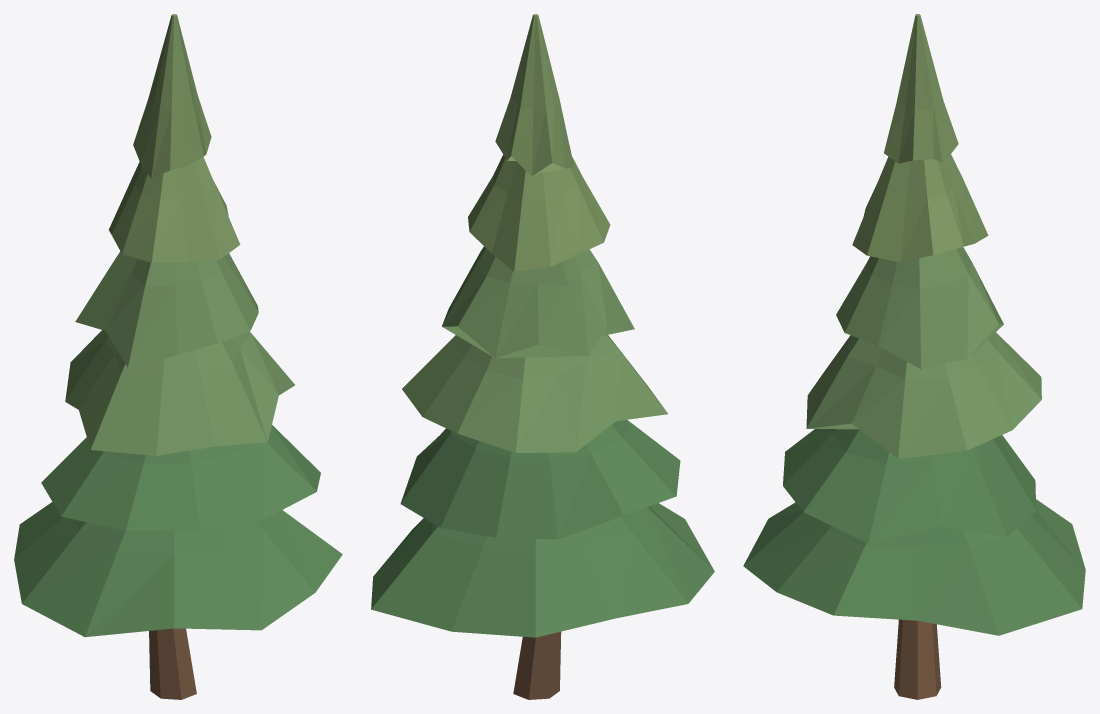
The model's file is Pine_Small.fbx.
3 views of the same model, side by side, from view 1: azimuth 30°, elevation 25°; view 2: azimuth 150°, elevation 25°; view 3: azimuth 270°, elevation 25° (orthographic).
Visible parts, largest first — view 1: Pine_Small; view 2: Pine_Small; view 3: Pine_Small.
Boxes of the visible parts, <box> form: Pine_Small: <box>14,14,342,699</box>; Pine_Small: <box>371,14,714,699</box>; Pine_Small: <box>743,14,1085,699</box>.
Size of the model in its own units: 180 by 416 by 191.
